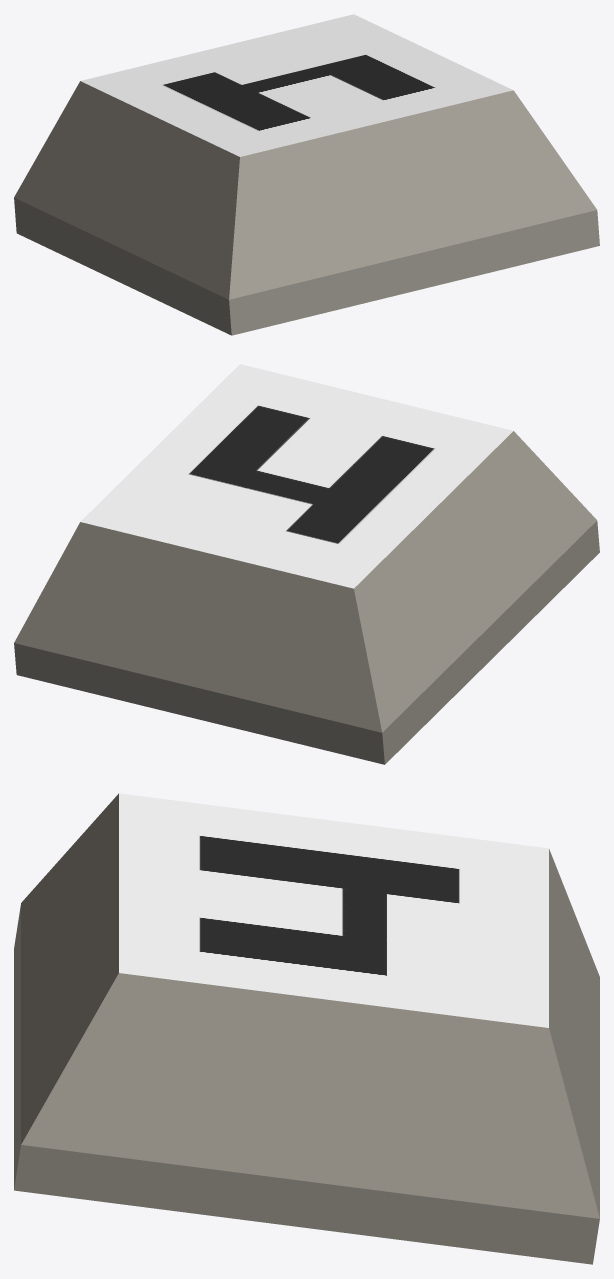
File: key4.glb
The picture shows the model from 3 angles, top to bottom: view 1: azimuth 30°, elevation 25°; view 2: azimuth 150°, elevation 25°; view 3: azimuth 270°, elevation 25°; orthographic projection. The views are drawn at different scales.
Parts seen in each view (by area): view 1: Cube.009; view 2: Cube.009; view 3: Cube.009.
Part boxes in pixels (x1,y1,x2,y2): Cube.009: (14,14,599,335); Cube.009: (14,364,599,764); Cube.009: (14,793,599,1264).
Bounding box in the file's own units: 0.1926 × 0.0968 × 0.1972.
2 materials, 1 textured.
